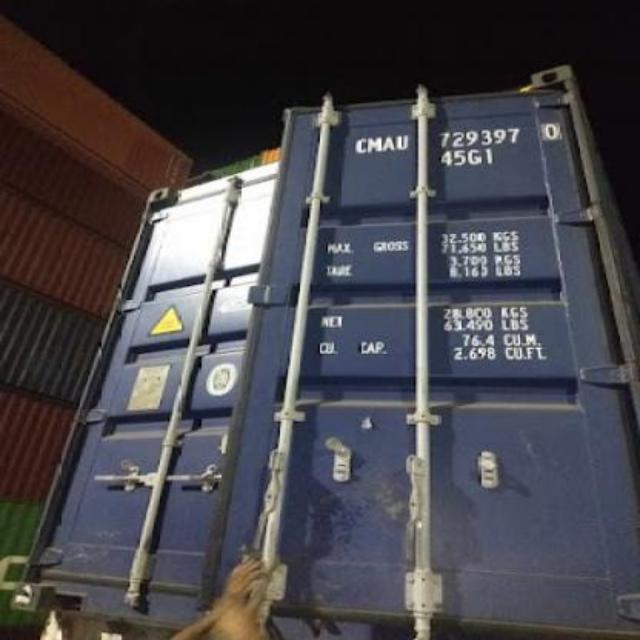0: (540, 118, 562, 144)
2: (448, 122, 466, 148)
3: (476, 120, 492, 150)
7: (506, 122, 522, 154), (436, 122, 449, 150)
9: (490, 117, 506, 153), (464, 125, 480, 149)
A: (380, 132, 396, 158)
C: (350, 132, 368, 158)
M: (366, 132, 384, 156)
U: (394, 129, 412, 159)
